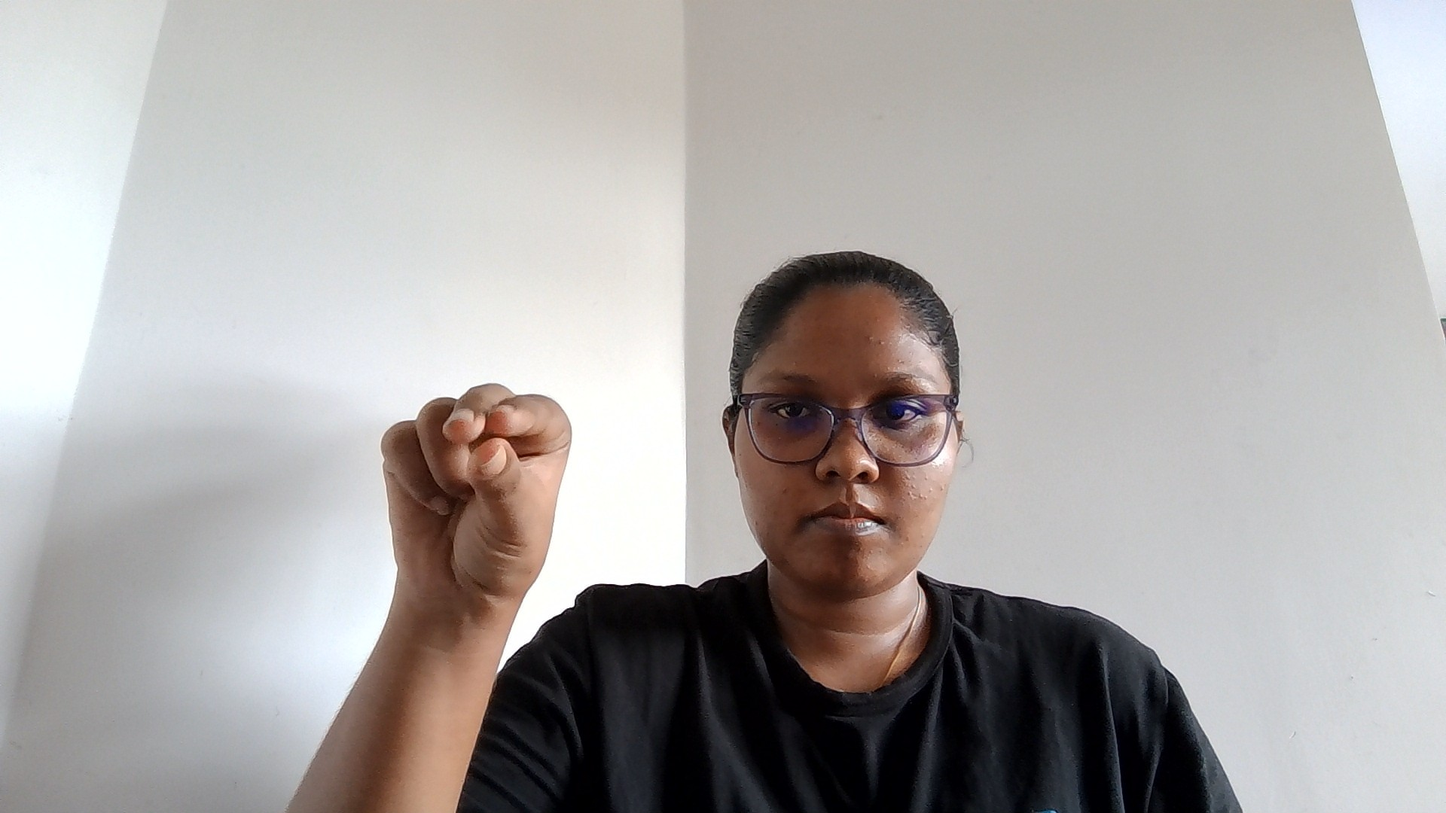I Love You: (361, 245, 596, 612)
